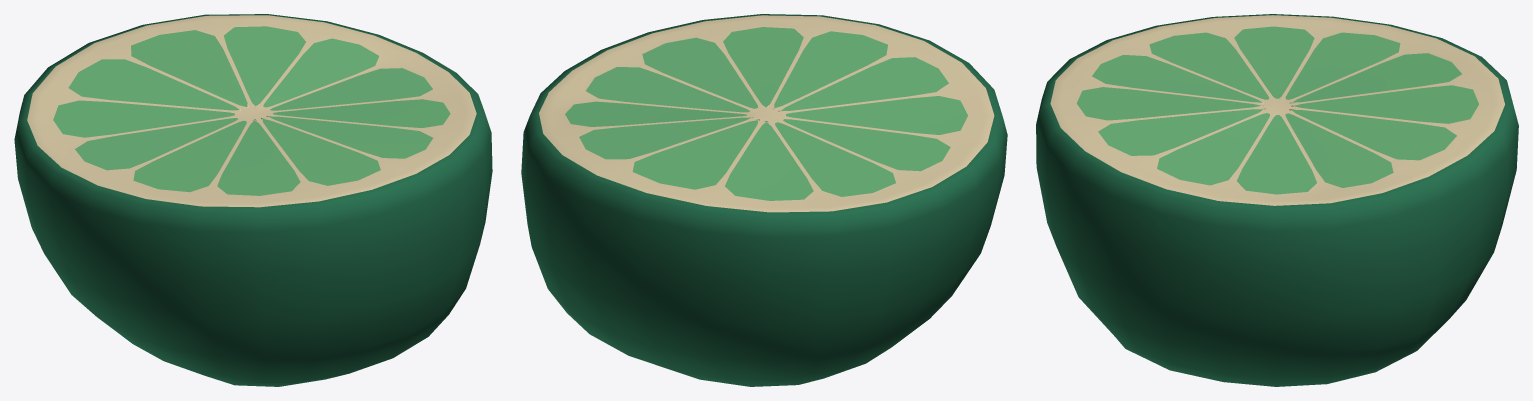
File: Limecut_01.dae
The picture shows the model from 3 angles, left to right: view 1: azimuth 30°, elevation 25°; view 2: azimuth 150°, elevation 25°; view 3: azimuth 270°, elevation 25°; orthographic projection.
Visible parts, largest first — view 1: Limecut_01_LOD0; view 2: Limecut_01_LOD0; view 3: Limecut_01_LOD0.
Part boxes in pixels (x1,y1,x2,y2): Limecut_01_LOD0: [14, 14, 492, 386]; Limecut_01_LOD0: [521, 14, 1007, 386]; Limecut_01_LOD0: [1036, 14, 1518, 386].
Size of what is drawn, in the model's own units: 2.39 by 2.4 by 1.44.
